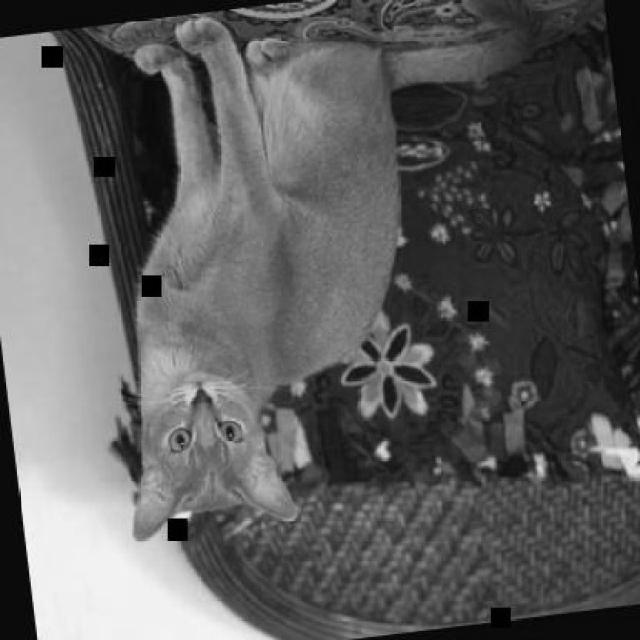Cat: (69, 0, 443, 545)
